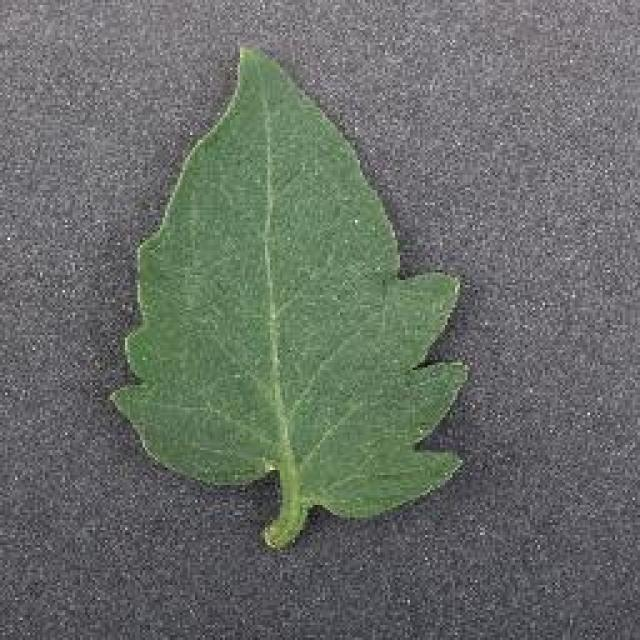Tomato_Healthy: (84, 32, 474, 520)
